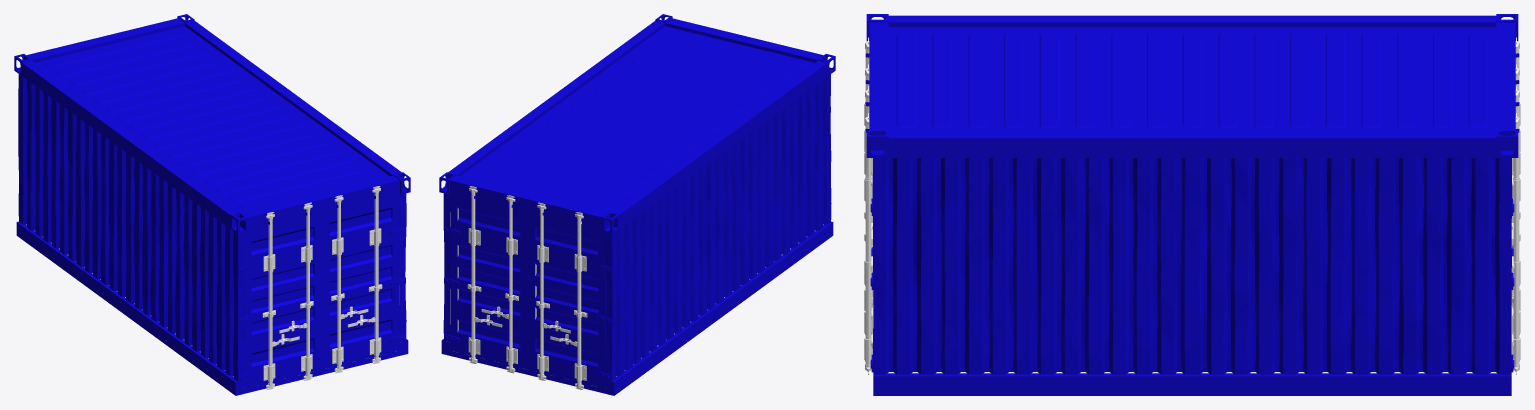
Rendered from SM_CARGO_CONTAINER.glb.
3 renders of one model, left to right at view 1: azimuth 30°, elevation 25°; view 2: azimuth 150°, elevation 25°; view 3: azimuth 270°, elevation 25°, orthographic. The views are drawn at different scales.
Parts seen in each view (by area): view 1: SM_CARGO_CONTAINER, DOOR_01, DOOR_02; view 2: SM_CARGO_CONTAINER, DOOR_04, DOOR_03; view 3: SM_CARGO_CONTAINER, DOOR_03, DOOR_01.
Part boxes in pixels (x1,y1,x2,y2): SM_CARGO_CONTAINER: (14, 14, 410, 395); DOOR_01: (322, 186, 400, 373); DOOR_02: (242, 202, 321, 389); SM_CARGO_CONTAINER: (439, 14, 835, 395); DOOR_04: (528, 202, 607, 389); DOOR_03: (449, 186, 527, 373); SM_CARGO_CONTAINER: (865, 14, 1519, 395); DOOR_03: (1511, 86, 1520, 374); DOOR_01: (864, 86, 873, 374).
Bounding box in the file's own units: 2.16 × 2.14 × 4.88.
